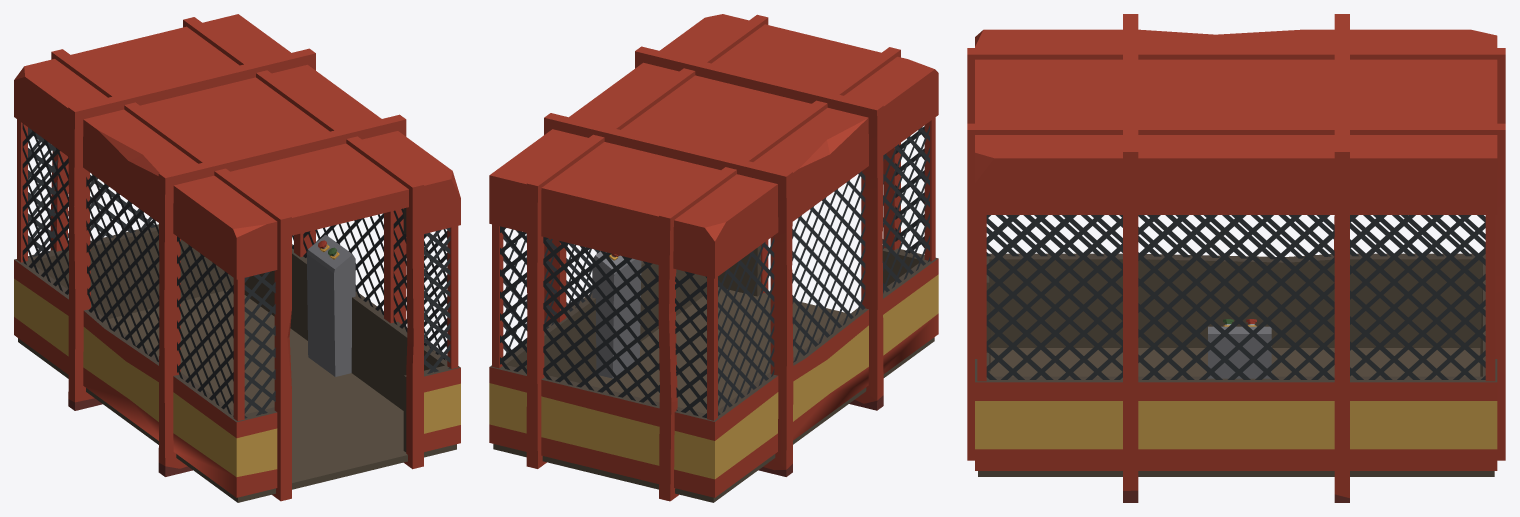
The model's file is elevator.gltf.
The picture shows the model from 3 angles, left to right: view 1: azimuth 30°, elevation 25°; view 2: azimuth 150°, elevation 25°; view 3: azimuth 270°, elevation 25°; orthographic projection. The views are drawn at different scales.
Parts seen in each view (by area): view 1: SM_Prop_Elevator_01 (1), SM_Prop_Elevator_01_Mesh2; view 2: SM_Prop_Elevator_01 (1), SM_Prop_Elevator_01_Mesh2; view 3: SM_Prop_Elevator_01 (1), SM_Prop_Elevator_01_Mesh2.
Boxes of the visible parts, bbox=[...] form: SM_Prop_Elevator_01 (1): bbox=[14, 14, 460, 502]; SM_Prop_Elevator_01_Mesh2: bbox=[22, 123, 450, 418]; SM_Prop_Elevator_01 (1): bbox=[489, 14, 938, 502]; SM_Prop_Elevator_01_Mesh2: bbox=[500, 125, 929, 418]; SM_Prop_Elevator_01 (1): bbox=[967, 14, 1505, 502]; SM_Prop_Elevator_01_Mesh2: bbox=[986, 215, 1485, 379].
Size of the model in its own units: 2.13 by 2.52 by 3.51.
2 materials, 2 textured.
